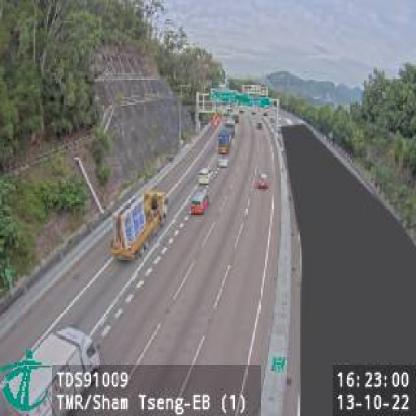Bus: (216, 127, 233, 155)
Car: (190, 188, 209, 214), (197, 167, 212, 186), (256, 172, 269, 190)
Truck: (5, 323, 101, 416), (108, 191, 170, 266)
